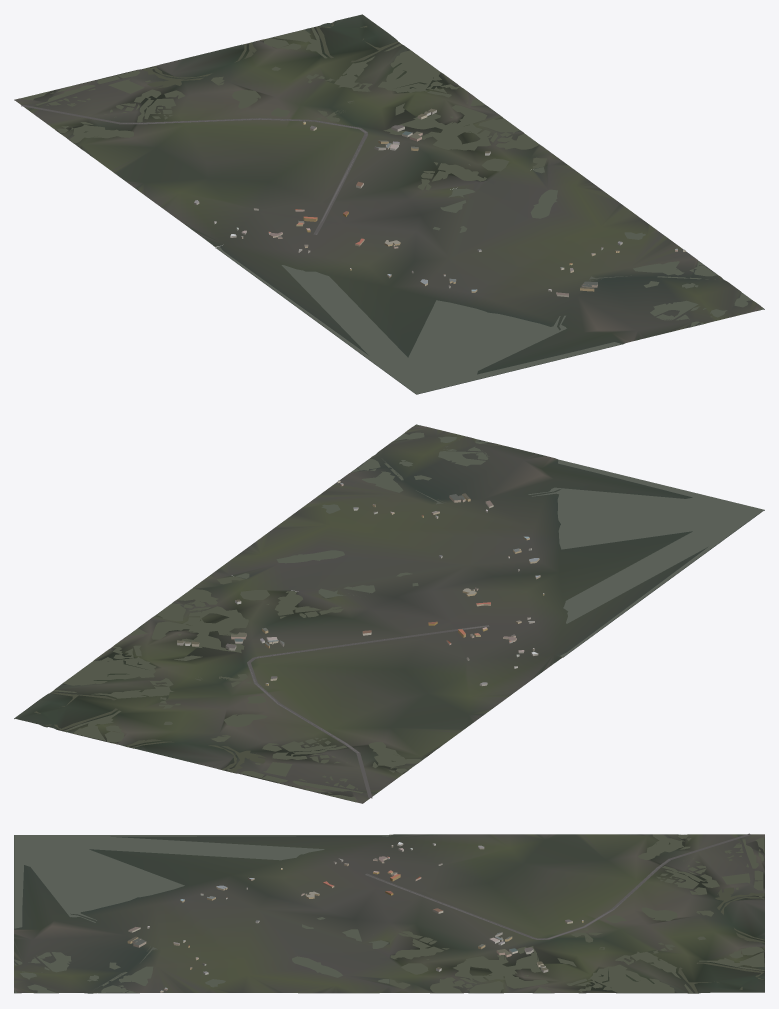
3 renders of one model, top to bottom at view 1: azimuth 30°, elevation 25°; view 2: azimuth 150°, elevation 25°; view 3: azimuth 270°, elevation 25°, orthographic. The views are drawn at different scales.
Parts seen in each view (by area): view 1: ground, water, buildings, roads; view 2: ground, water, buildings, roads; view 3: ground, water, buildings, roads.
Part boxes in pixels (left/top/right/bottom): ground: left=14, top=14, right=764, bottom=394; water: left=21, top=23, right=763, bottom=394; buildings: left=194, top=108, right=685, bottom=297; roads: left=21, top=105, right=367, bottom=234; ground: left=14, top=425, right=764, bottom=803; water: left=34, top=424, right=764, bottom=801; buildings: left=177, top=480, right=544, bottom=685; roads: left=247, top=625, right=489, bottom=798; ground: left=14, top=834, right=764, bottom=993; water: left=14, top=834, right=764, bottom=993; buildings: left=127, top=842, right=583, bottom=992; roads: left=365, top=833, right=750, bottom=939.
Bounding box in the file's own units: 1409 × 17.1 × 2801.
